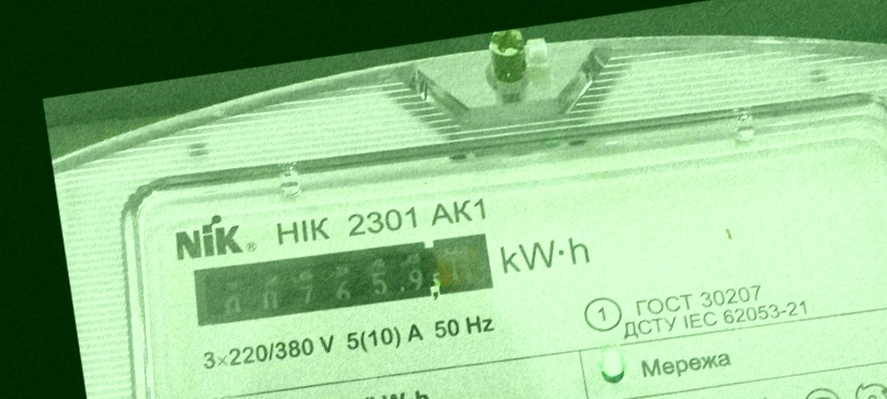0: (259, 282, 282, 310), (222, 287, 243, 316)
1: (445, 249, 464, 282)
5: (367, 264, 393, 294)
6: (332, 273, 354, 299)
7: (295, 278, 319, 306)
9: (405, 261, 427, 290)
screen: (179, 210, 507, 346)
